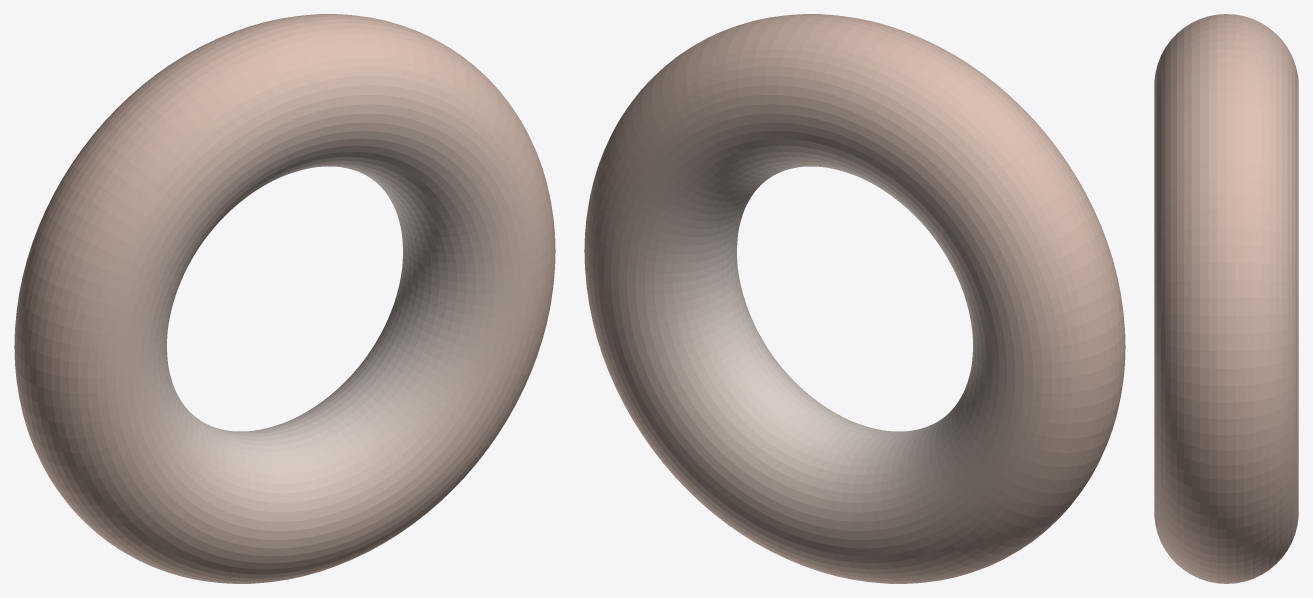
3 views of the same model, side by side, from view 1: azimuth 30°, elevation 25°; view 2: azimuth 150°, elevation 25°; view 3: azimuth 270°, elevation 25° (orthographic). The views are drawn at different scales.
Visible parts, largest first — view 1: world; view 2: world; view 3: world.
Boxes of the visible parts, x1,y1,x2,y2 form: world: (14, 14, 555, 583); world: (584, 14, 1125, 583); world: (1154, 14, 1298, 583).
Bounding box in the file's own units: 26.8 × 26.8 × 6.79.
